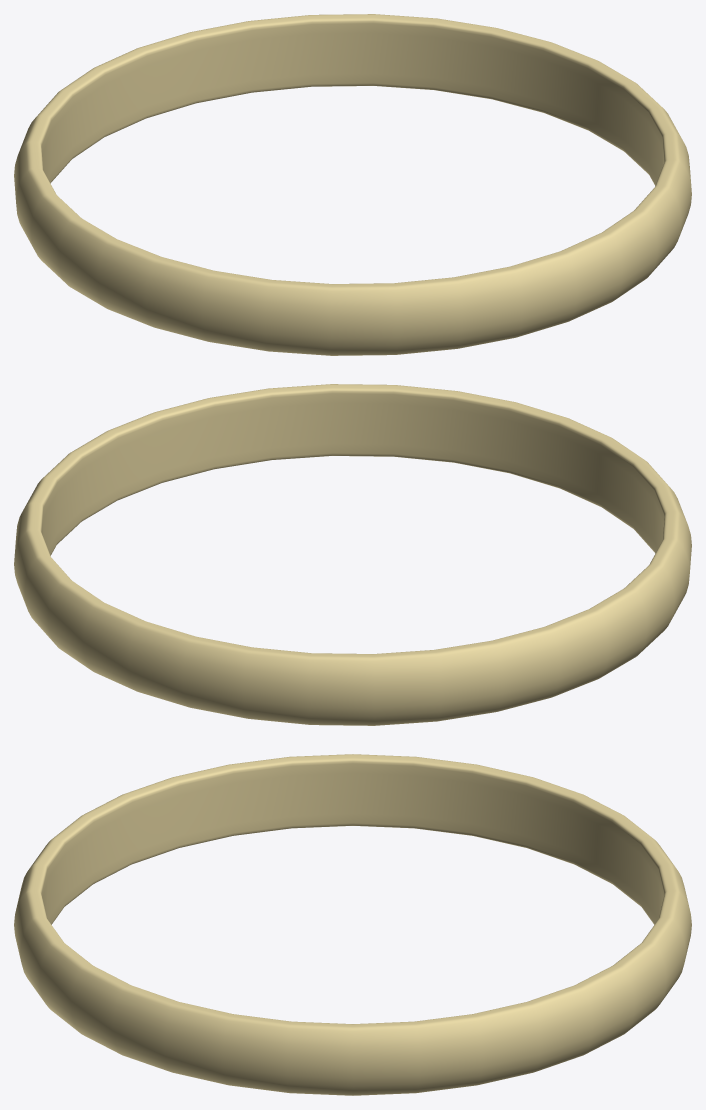
File: ring-sd-2.fbx
3 views of the same model, one above another, from view 1: azimuth 30°, elevation 25°; view 2: azimuth 150°, elevation 25°; view 3: azimuth 270°, elevation 25° (orthographic).
Visible parts, largest first — view 1: Torus; view 2: Torus; view 3: Torus.
Boxes of the visible parts, bbox=[...] form: Torus: bbox=[14, 14, 691, 355]; Torus: bbox=[14, 384, 691, 725]; Torus: bbox=[14, 754, 691, 1095].
Size of the model in its own units: 2.29 by 0.2532 by 2.29.
